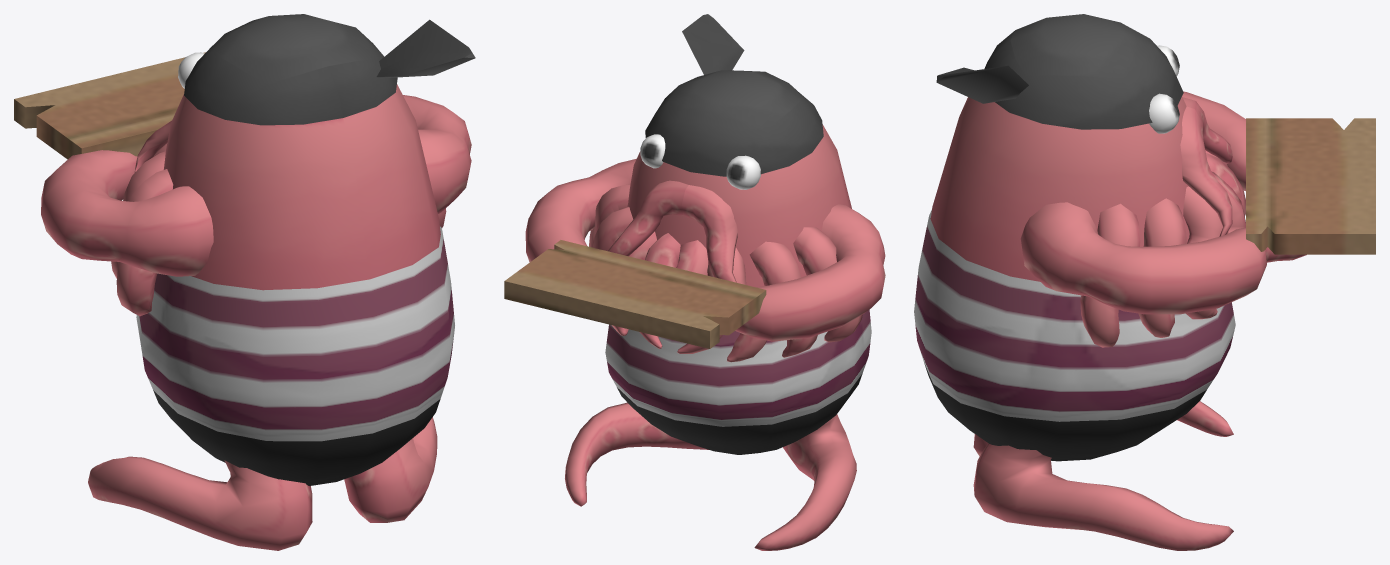
File: tako_idle_c_01.fbx
3 views of the same model, side by side, from view 1: azimuth 30°, elevation 25°; view 2: azimuth 150°, elevation 25°; view 3: azimuth 270°, elevation 25° (orthographic). The views are drawn at different scales.
Parts seen in each view (by area): view 1: I_c_01; view 2: I_c_01; view 3: I_c_01.
Boxes of the visible parts, x1,y1,x2,y2 form: I_c_01: (14, 14, 475, 550); I_c_01: (504, 14, 885, 550); I_c_01: (914, 14, 1375, 550).
Bounding box in the file's own units: 1.38 × 1.6 × 1.42.
Materials: 1 (1 with a texture image).
